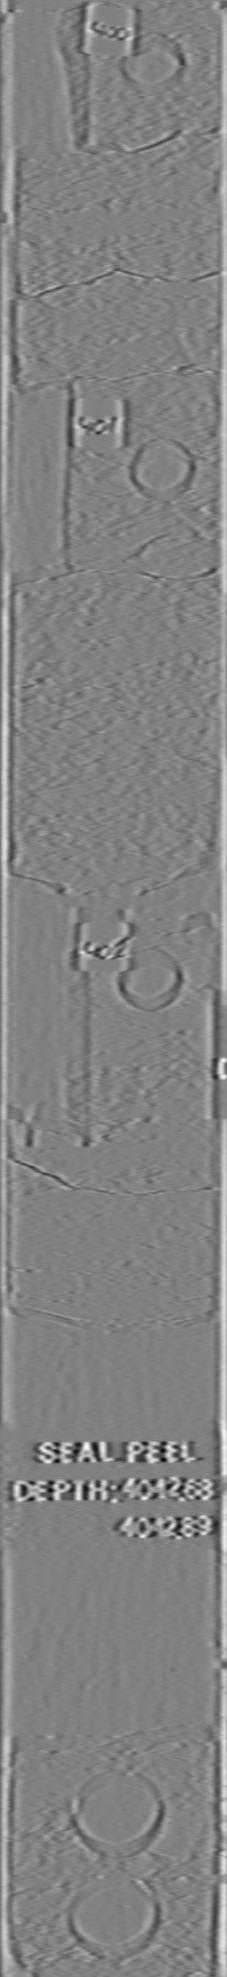hplug: (113, 944, 187, 1017), (124, 432, 201, 501), (108, 28, 187, 93)
scal: (66, 1763, 169, 1865), (66, 1865, 166, 1963)
vplug: (18, 944, 97, 1152), (16, 373, 79, 591), (16, 3, 93, 160)
